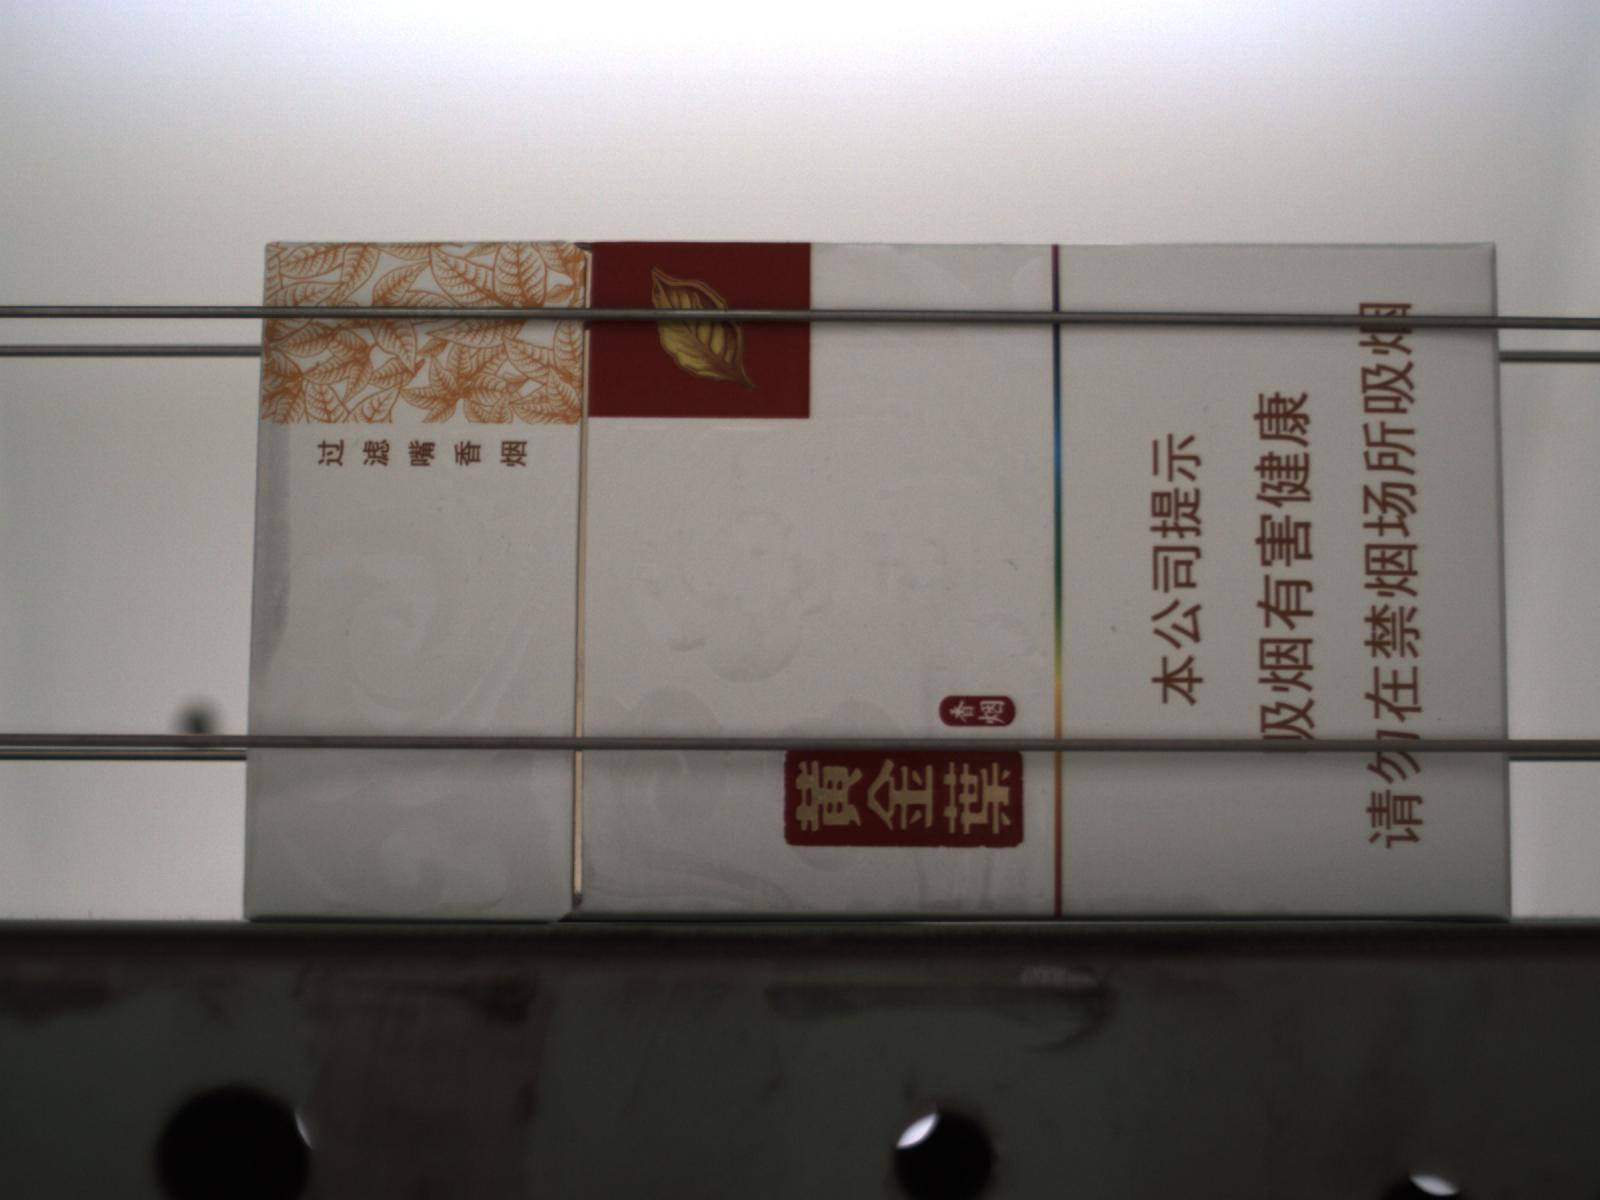areaOil: (248, 321, 299, 686)
dirtySpot: (1007, 557, 1019, 572), (1107, 624, 1121, 637)
